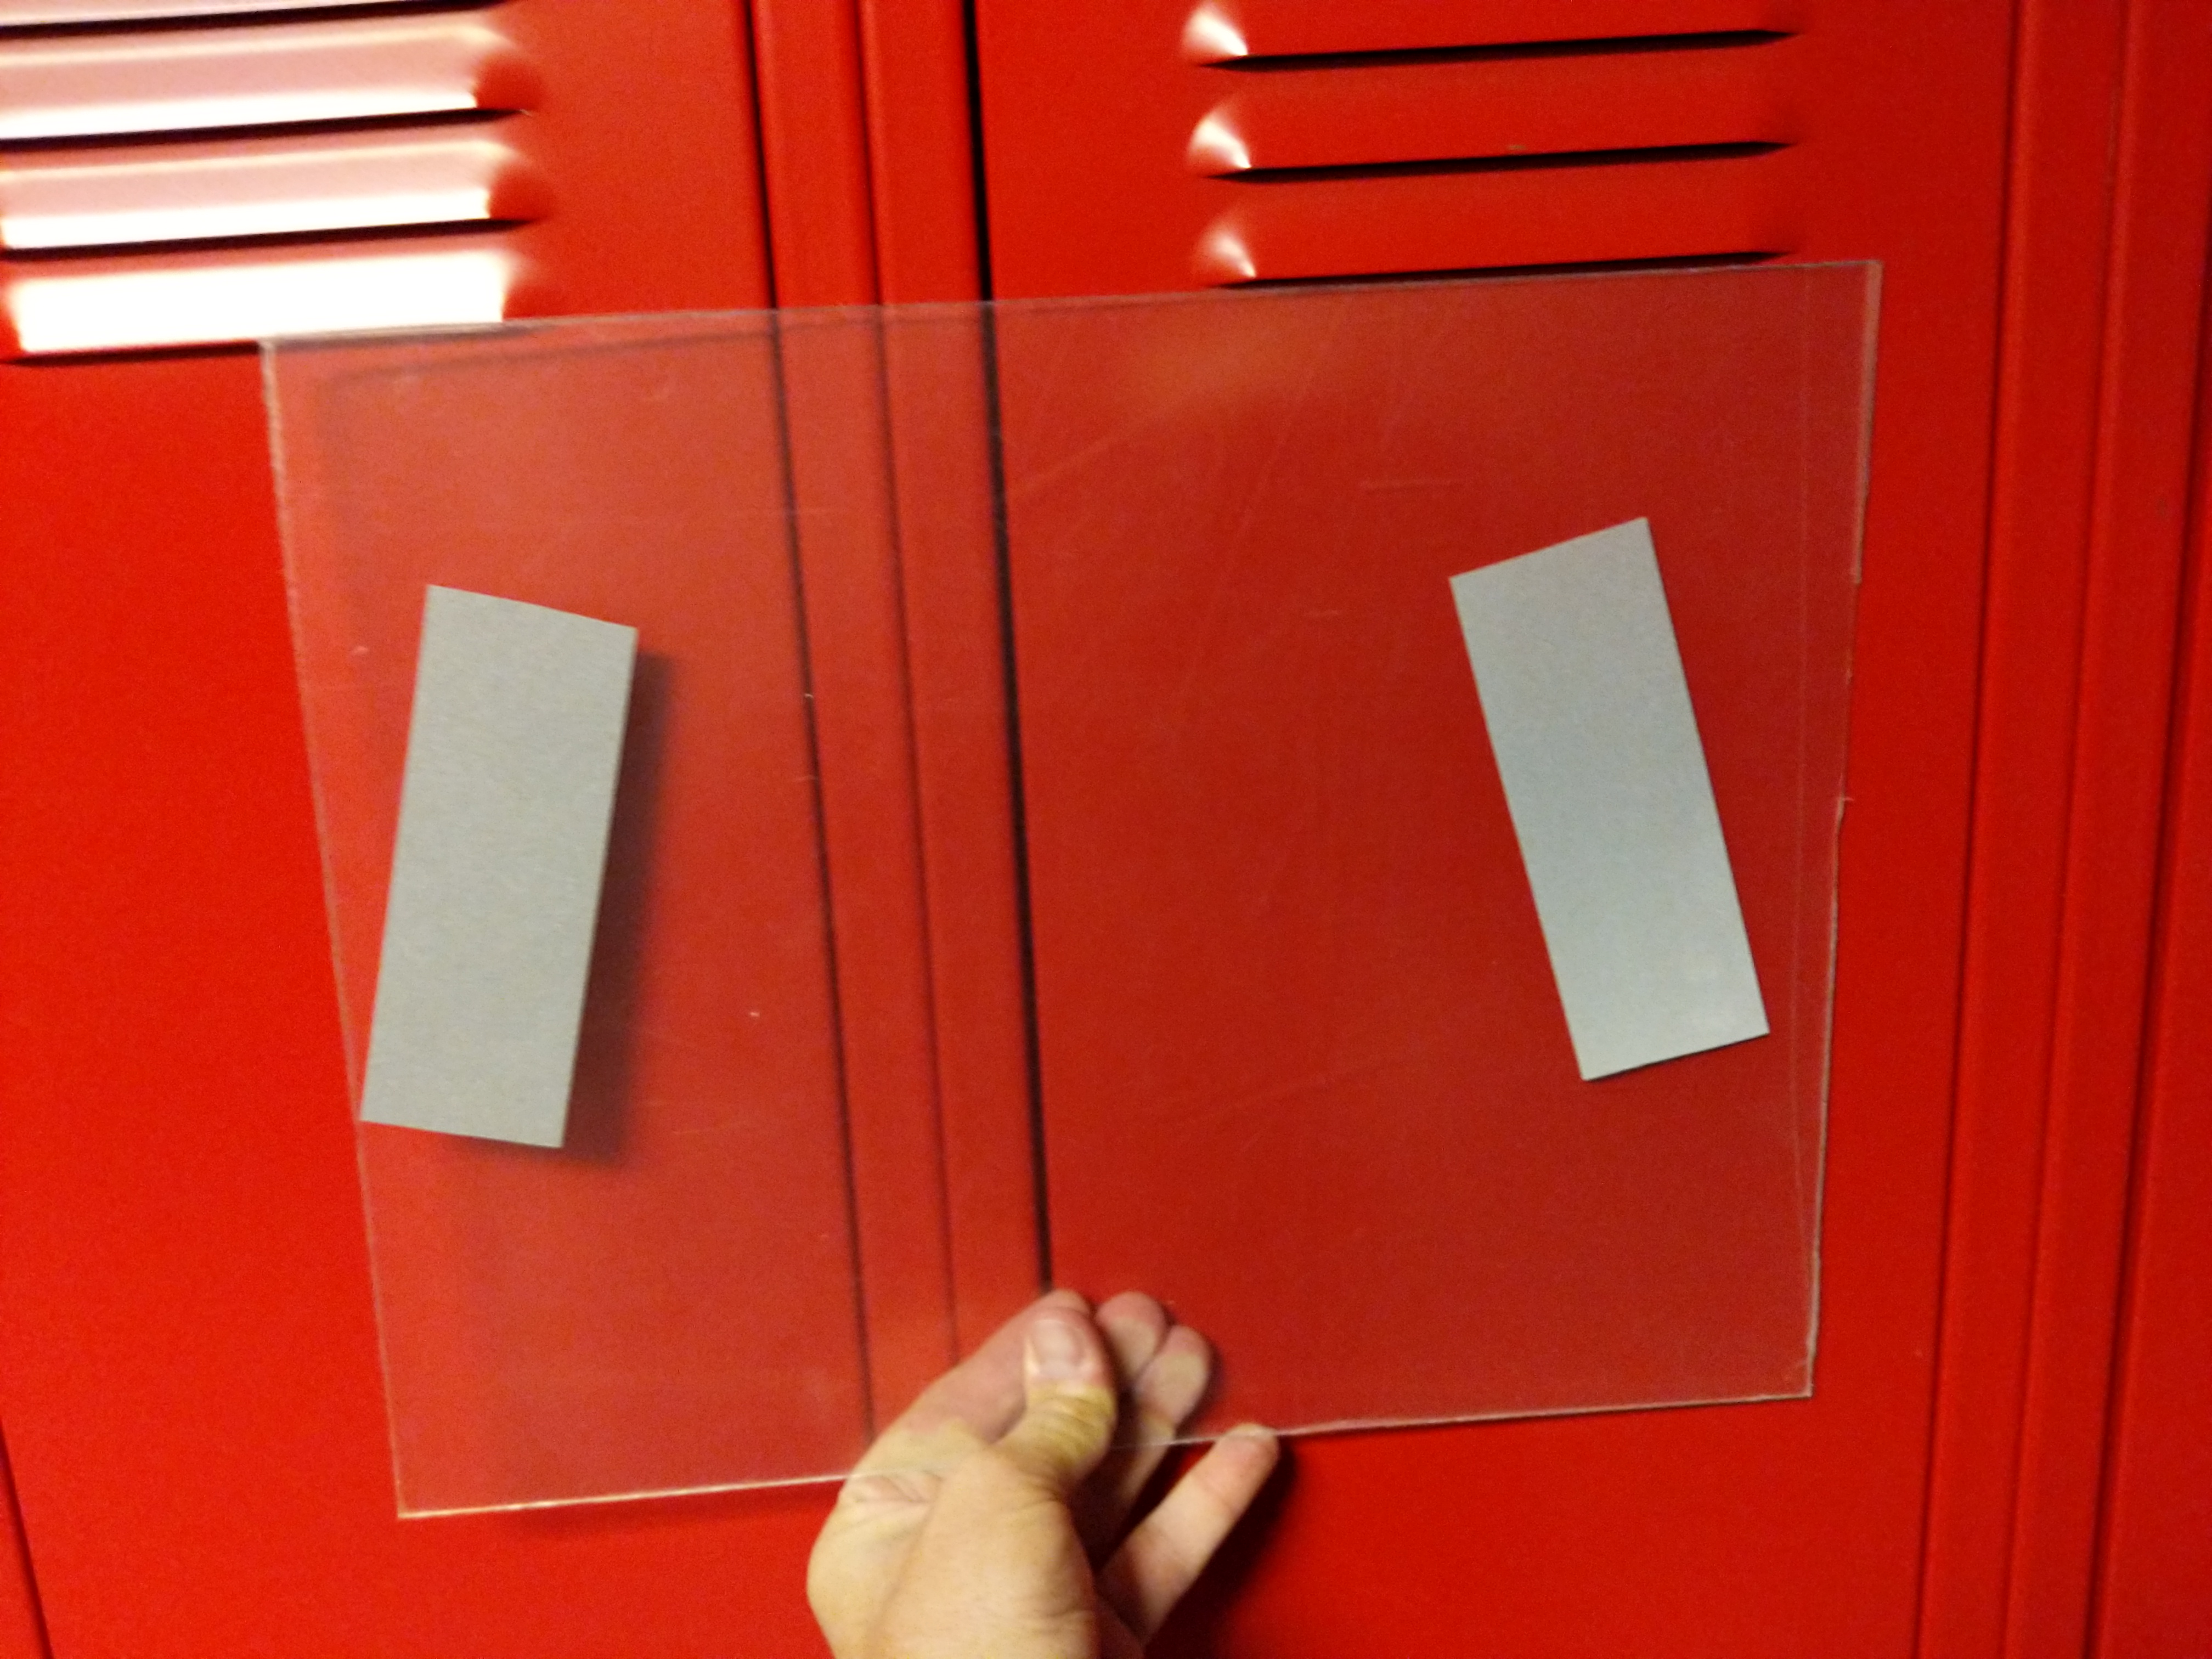vision_target: (336, 512, 1777, 1154)
